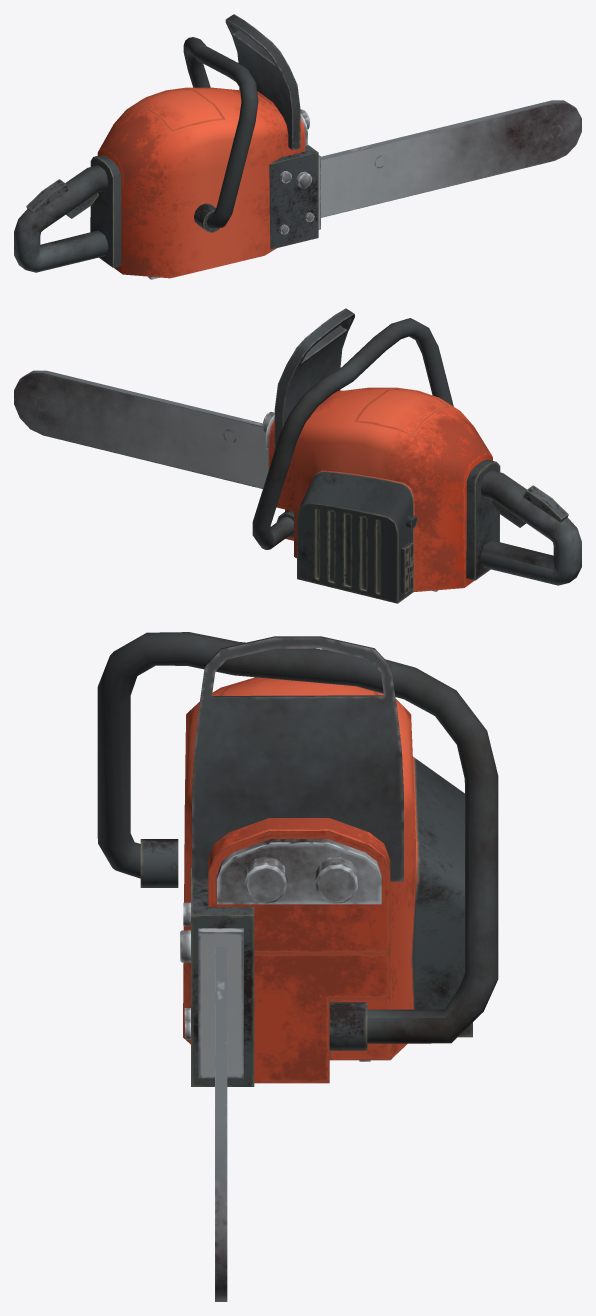
File: chainsaw.gltf
3 renders of one model, top to bottom at view 1: azimuth 30°, elevation 25°; view 2: azimuth 150°, elevation 25°; view 3: azimuth 270°, elevation 25°, orthographic. The views are drawn at different scales.
Parts seen in each view (by area): view 1: Chainsaw_Chainsaw; view 2: Chainsaw_Chainsaw; view 3: Chainsaw_Chainsaw.
Boxes of the visible parts, box(x1,y1,x2,y2) form: Chainsaw_Chainsaw: box(14, 14, 581, 279); Chainsaw_Chainsaw: box(14, 308, 581, 603); Chainsaw_Chainsaw: box(97, 632, 498, 1301).
Size of the model in its own units: 1.5 by 0.5576 by 0.4778.
1 material, 1 textured.
